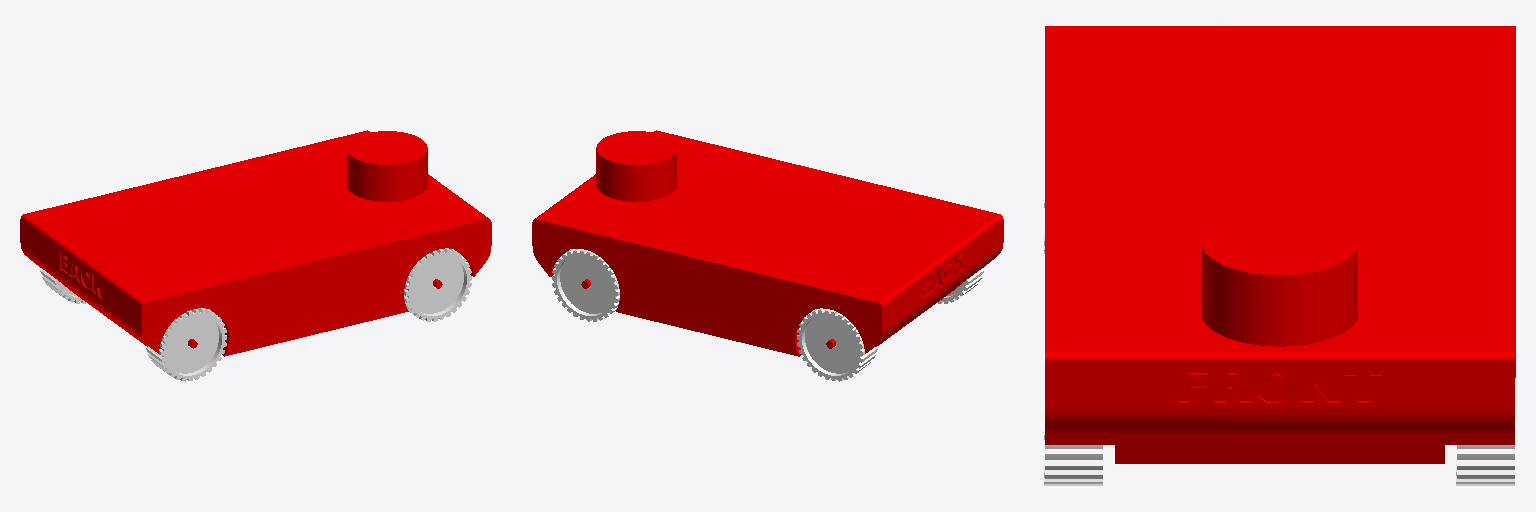
URDF robot description (ugv):
<?xml version="1.0" ?>
<!-- =================================================================================== -->
<!-- |    This document was autogenerated by xacro from [local-path]/ros2_ws/src/ugv/urdf/ugvGazebo.xacro | -->
<!-- |    EDITING THIS FILE BY HAND IS NOT RECOMMENDED                                 | -->
<!-- =================================================================================== -->
<robot name="ugv">
  <link name="wheelBL">
    <visual>
      <origin rpy="1.57 0.0 0.0" xyz="0.0 0.0 0.009"/>
      <geometry>
        <mesh filename="package://ugv/mesh/tyre.obj" scale="1 1 1"/>
      </geometry>
      <material name="black"/>
    </visual>
    <inertial>
      <mass value="0.2"/>
      <inertia ixx="0.00695" ixy="0.0" ixz="0.0" iyy="0.00695" iyz="0.0" izz="0.01203"/>
    </inertial>
    <gazebo>
      <mu>1.0</mu>
      <mu2>0.8</mu2>
      <material>Gazebo/Black</material>
    </gazebo>
  </link>
  <link name="wheelFL">
    <visual>
      <origin rpy="1.57 0.0 0.0" xyz="0.0 0.0 0.009"/>
      <geometry>
        <mesh filename="package://ugv/mesh/tyre.obj" scale="1 1 1"/>
      </geometry>
      <material name="black"/>
    </visual>
    <inertial>
      <mass value="0.2"/>
      <inertia ixx="0.00695" ixy="0.0" ixz="0.0" iyy="0.00695" iyz="0.0" izz="0.01203"/>
    </inertial>
    <gazebo>
      <mu>1.0</mu>
      <mu2>0.8</mu2>
      <material>Gazebo/Black</material>
    </gazebo>
  </link>
  <link name="wheelFR">
    <visual>
      <origin rpy="1.57 0.0 0.0" xyz="0.0 0.0 0.009"/>
      <geometry>
        <mesh filename="package://ugv/mesh/tyre.obj" scale="1 1 1"/>
      </geometry>
      <material name="black"/>
    </visual>
    <inertial>
      <mass value="0.2"/>
      <inertia ixx="0.00695" ixy="0.0" ixz="0.0" iyy="0.00695" iyz="0.0" izz="0.01203"/>
    </inertial>
    <gazebo>
      <mu>1.0</mu>
      <mu2>0.8</mu2>
      <material>Gazebo/Black</material>
    </gazebo>
  </link>
  <link name="wheelBR">
    <visual>
      <origin rpy="1.57 0.0 0.0" xyz="0.0 0.0 0.009"/>
      <geometry>
        <mesh filename="package://ugv/mesh/tyre.obj" scale="1 1 1"/>
      </geometry>
      <material name="black"/>
    </visual>
    <inertial>
      <mass value="0.2"/>
      <inertia ixx="0.00695" ixy="0.0" ixz="0.0" iyy="0.00695" iyz="0.0" izz="0.01203"/>
    </inertial>
    <gazebo>
      <mu>1.0</mu>
      <mu2>0.8</mu2>
      <material>Gazebo/Black</material>
    </gazebo>
  </link>
  <material name="black">
    <color rgba="1 1 1 1.0"/>
  </material>
  <material name="grey">
    <color rgba="1 0.0 0.0 1.0"/>
  </material>
  <link name="base_link">
    <visual>
      <origin rpy="1.57 0.0 0.0" xyz="0.0 0.0 0.009"/>
      <geometry>
        <mesh filename="package://ugv/mesh/mainBody.obj" scale="1 1 1"/>
      </geometry>
      <material name="grey"/>
    </visual>
    <inertial>
      <mass value="0.2"/>
      <inertia ixx="0.067" ixy="0.0" ixz="0.0" iyy="0.227" iyz="0.0" izz="0.173"/>
    </inertial>
    <gazebo>
      <mu>1.0</mu>
      <mu2>0.8</mu2>
      <material>Gazebo/Black</material>
    </gazebo>
  </link>
  <link name="lidar">
    <visual>
      <origin rpy="1.57 0.0 0.0" xyz="0.0 0.0 0.009"/>
      <geometry>
        <mesh filename="package://ugv/mesh/lidar.obj" scale="1 1 1"/>
      </geometry>
      <material name="grey"/>
    </visual>
  </link>
  <link name="shaftF">
    <visual>
      <origin rpy="1.57 0.0 0.0" xyz="0.0 0.0 0.009"/>
      <geometry>
        <mesh filename="package://ugv/mesh/shaft.obj" scale="1 1 1"/>
      </geometry>
      <material name="grey"/>
    </visual>
  </link>
  <link name="shaftB">
    <visual>
      <origin rpy="1.57 0.0 0.0" xyz="0.0 0.0 0.009"/>
      <geometry>
        <mesh filename="package://ugv/mesh/shaft.obj" scale="1 1 1"/>
      </geometry>
      <material name="grey"/>
    </visual>
  </link>
  <joint name="mainBody_shaftF" type="fixed">
    <parent link="base_link"/>
    <child link="shaftF"/>
    <origin rpy="0.0 0.0 0.0" xyz="0.07 0 0.0105"/>
  </joint>
  <joint name="mainBody_shaftB" type="fixed">
    <parent link="base_link"/>
    <child link="shaftB"/>
    <origin rpy="0.0 0.0 0.0" xyz="-0.07 0 0.0105"/>
  </joint>
  <joint name="mainBody_WheelBL" type="continuous">
    <parent link="base_link"/>
    <child link="wheelBL"/>
    <origin rpy="0.0 0.0 0.0" xyz="-0.07 0.0525 0.01"/>
    <axis xyz="0 1 0"/>
    <limit effort="0" lower="0" upper="0" velocity="0"/>
  </joint>
  <joint name="mainBody_WheelFL" type="continuous">
    <parent link="base_link"/>
    <child link="wheelFL"/>
    <origin rpy="0.0 0.0 0.0" xyz="0.07 0.0525 0.010"/>
    <axis xyz="0 1 0"/>
    <limit effort="0" lower="0" upper="0" velocity="0"/>
  </joint>
  <joint name="mainBody_WheelFR" type="continuous">
    <parent link="base_link"/>
    <child link="wheelFR"/>
    <origin rpy="0.0 0.0 0.0" xyz="0.07 -0.0525 0.010"/>
    <axis xyz="0 1 0"/>
    <limit effort="0" lower="0" upper="0" velocity="0"/>
  </joint>
  <joint name="mainBody_WheelBR" type="continuous">
    <parent link="base_link"/>
    <child link="wheelBR"/>
    <origin rpy="0.0 0.0 0.0" xyz="-0.07 -0.0525 0.010"/>
    <axis xyz="0 1 0"/>
    <limit effort="0" lower="0" upper="0" velocity="0"/>
  </joint>
  <joint name="mainBody_Lidar" type="fixed">
    <parent link="base_link"/>
    <child link="lidar"/>
    <origin rpy="0.0 0.0 0.0" xyz="0.075 0 0.04"/>
  </joint>
</robot>

--- Facts derived from the render (not from the file) ---
3 views of the same robot in one strip: view 1: azimuth 30°, elevation 25°; view 2: azimuth 150°, elevation 25°; view 3: azimuth 270°, elevation 25° (orthographic).
Robot: ugv — 8 links, 7 joints (4 continuous, 3 fixed); root link base_link; default pose: all joints at 0.
Visible links, largest first — view 1: base_link, lidar, wheelBR, wheelFR; view 2: base_link, lidar, wheelBL, wheelFL; view 3: base_link, lidar, wheelFR, wheelFL.
Link boxes in pixels (left/top/right/bottom): base_link: left=20, top=130, right=491, bottom=356; lidar: left=347, top=131, right=427, bottom=201; wheelBR: left=146, top=308, right=226, bottom=381; wheelFR: left=404, top=248, right=471, bottom=321; base_link: left=532, top=130, right=1003, bottom=356; lidar: left=596, top=131, right=676, bottom=201; wheelBL: left=797, top=308, right=877, bottom=381; wheelFL: left=552, top=249, right=619, bottom=321; base_link: left=1045, top=26, right=1515, bottom=463; lidar: left=1202, top=209, right=1357, bottom=346; wheelFR: left=1044, top=435, right=1102, bottom=485; wheelFL: left=1456, top=445, right=1514, bottom=485.
Size in the robot's own frame: 0.2 by 0.12 by 0.069 metres.
Meshes: 4 distinct files referenced, 8 mesh visuals loaded (4 OBJ).